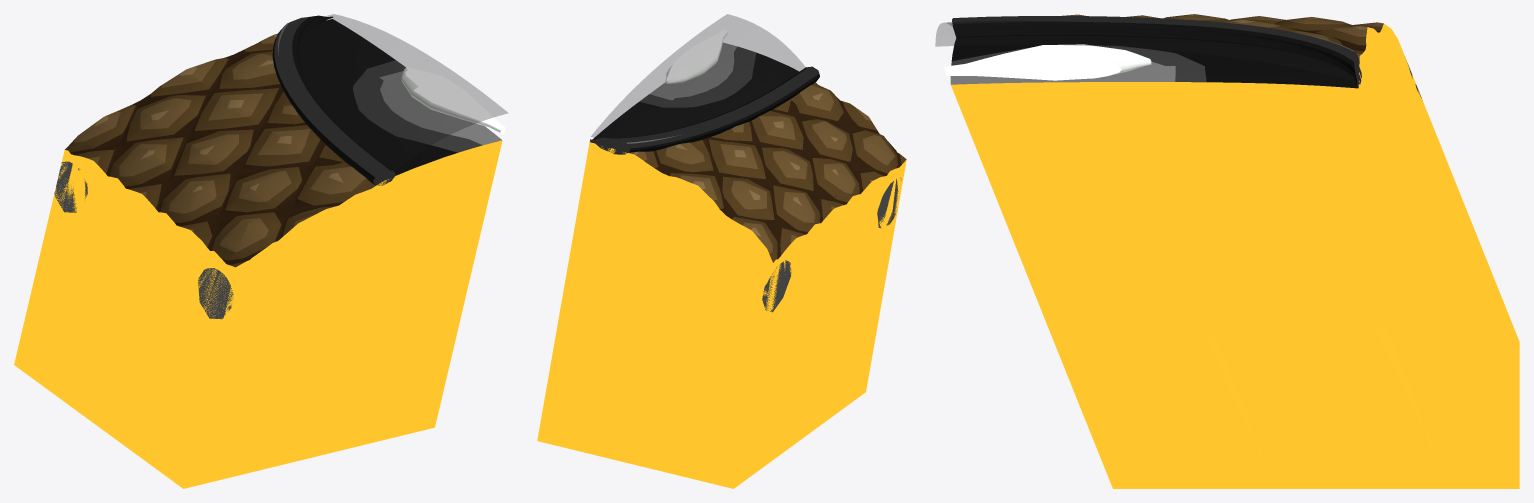
File: pineapple_197.glb
3 renders of one model, left to right at view 1: azimuth 30°, elevation 25°; view 2: azimuth 150°, elevation 25°; view 3: azimuth 270°, elevation 25°, orthographic. The views are drawn at different scales.
Parts seen in each view (by area): view 1: pineapple_197; view 2: pineapple_197; view 3: pineapple_197.
Boxes of the visible parts, x1,y1,x2,y2 form: pineapple_197: (14, 14, 507, 488); pineapple_197: (537, 14, 906, 488); pineapple_197: (935, 14, 1519, 488).
Bounding box in the file's own units: 24 × 33.76 × 40.23.
